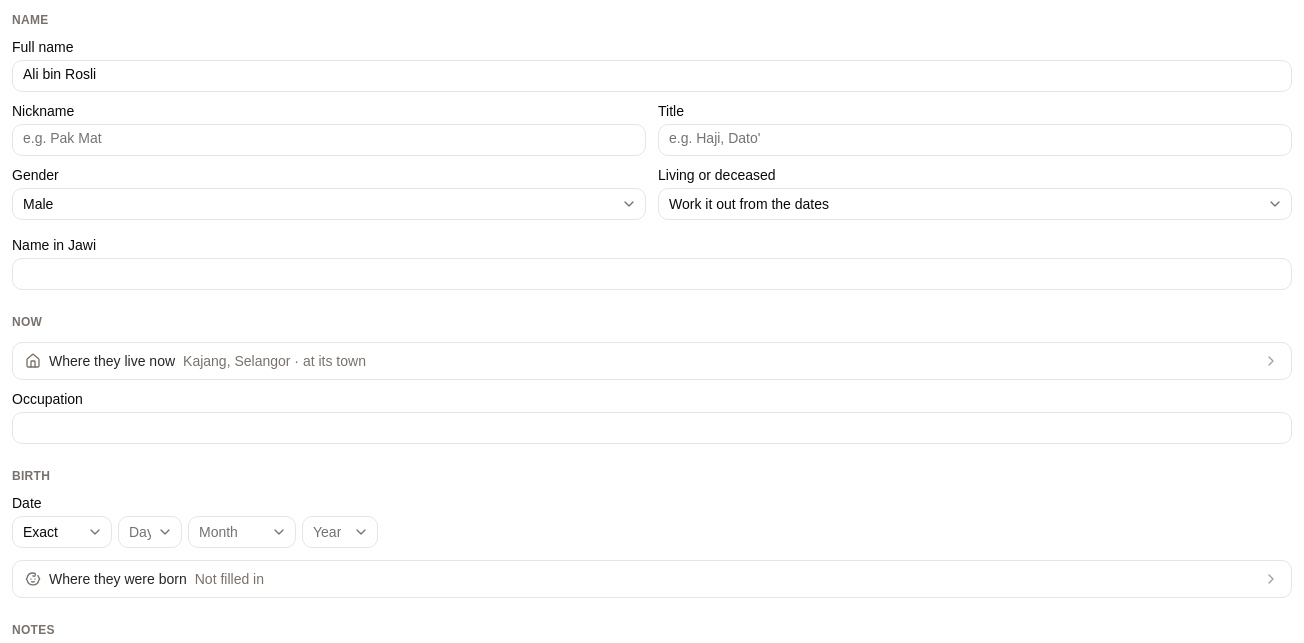
each place where it's meant › fills a place in from another in one click
Click the button "Where they were born Not filled in": (118, 579) 13,561 -> 1291,597
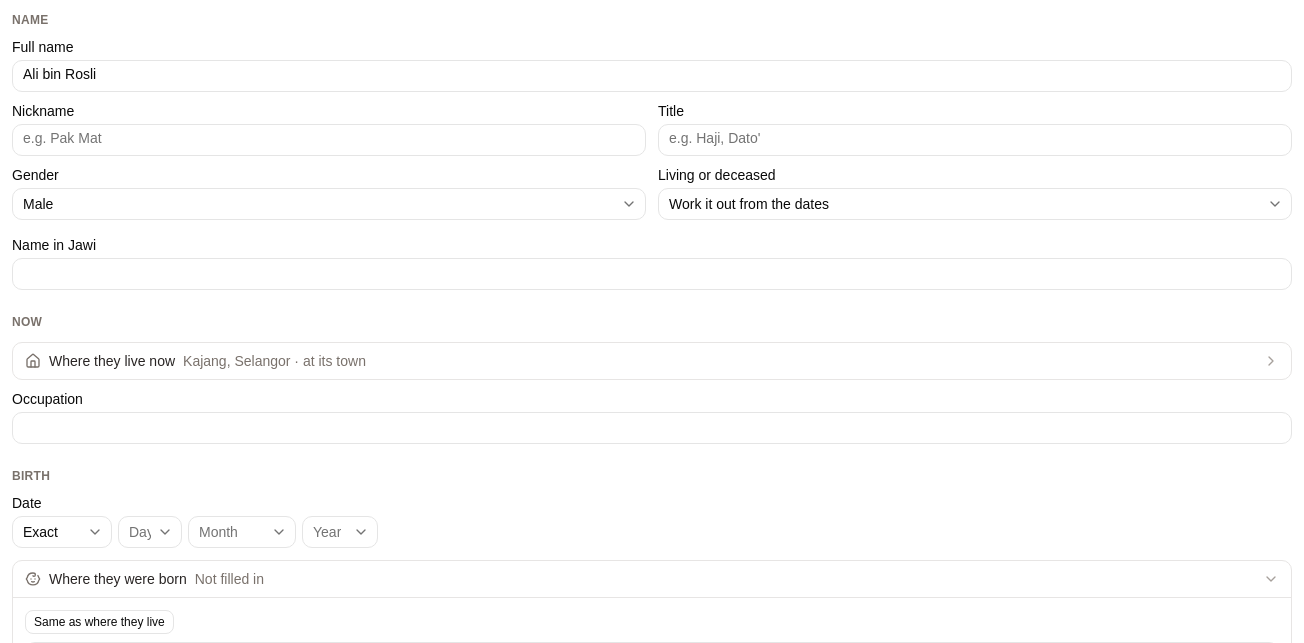
Click the button "Same as where they live": (99, 622) 25,610 -> 174,634
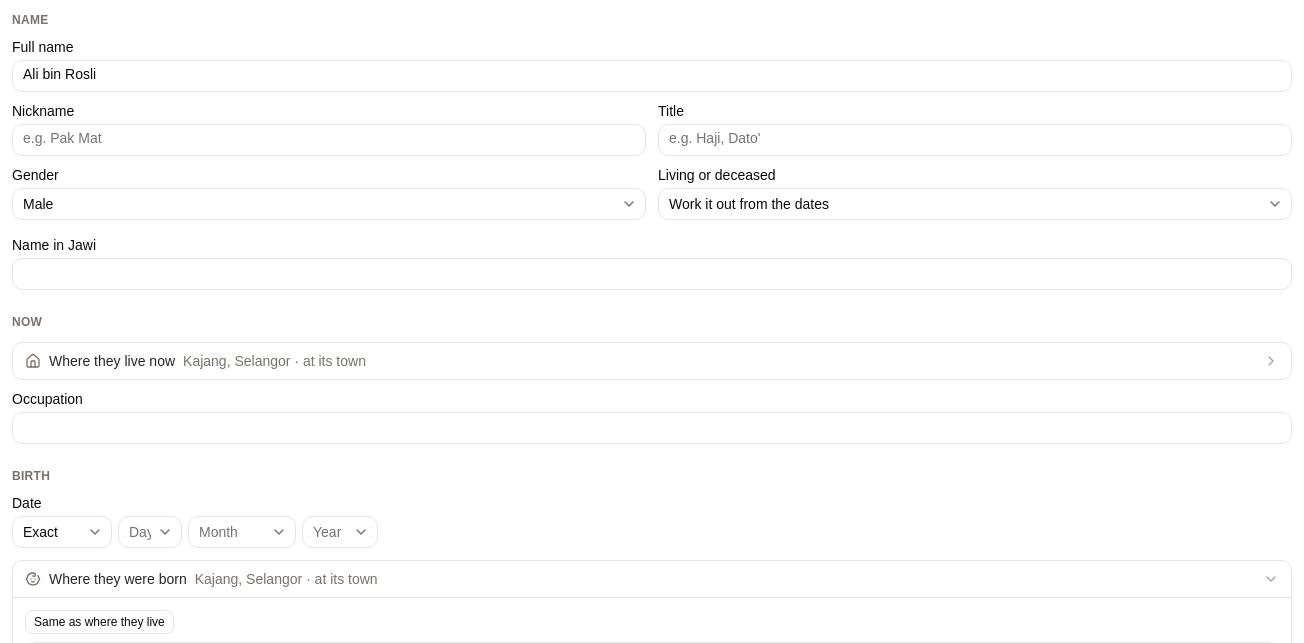
expect the button "Where they were born Kajang, Selangor · at its town" is shown: met, box 13,561 -> 1291,597
